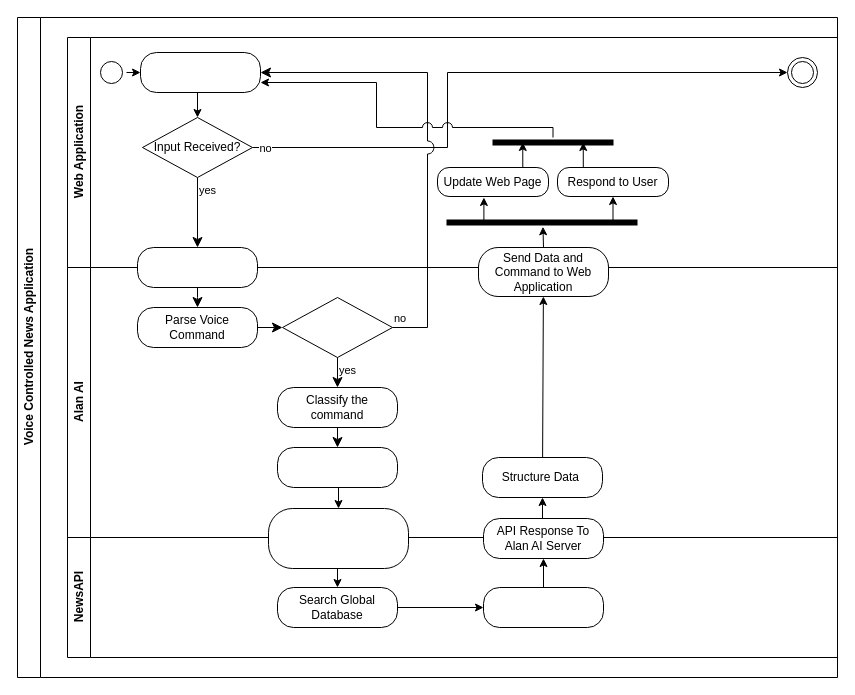
The diagram is 855 pixels wide and 695 high, and some of its shapes have lost their labels. Here are the shapes that lost their labels. From the top down, the centre of each, then its label:
point 200,72: Receive Voice Command
point 197,267: Send to Alan AI API
point 337,327: Valid Command?
point 337,467: Extract the parameters
point 338,538: Query NewsAPI based on the command and parameters
point 543,607: Fetch and Return the News Articles
